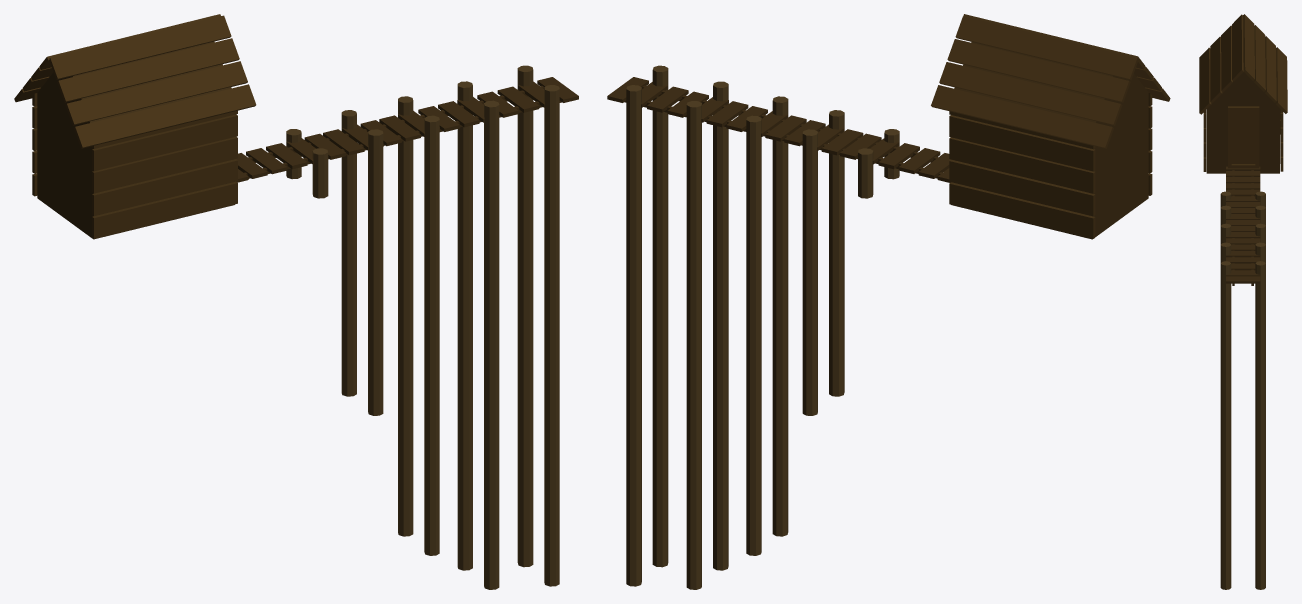
Rendered from lpCabin.gltf.
3 renders of one model, left to right at view 1: azimuth 30°, elevation 25°; view 2: azimuth 150°, elevation 25°; view 3: azimuth 270°, elevation 25°, orthographic. The views are drawn at different scales.
Parts seen in each view (by area): view 1: logs, roof, walls, planks, base; view 2: logs, roof, walls, planks, base; view 3: logs, roof, base, planks, door, walls.
Boxes of the visible parts, x1,y1,x2,y2 form: logs: [286, 65, 559, 589]; roof: [14, 14, 256, 148]; walls: [32, 93, 237, 238]; planks: [236, 77, 578, 182]; base: [37, 41, 234, 239]; logs: [626, 65, 899, 589]; roof: [931, 14, 1170, 148]; walls: [949, 93, 1152, 238]; planks: [607, 77, 950, 182]; base: [951, 42, 1148, 239]; logs: [1220, 191, 1265, 589]; roof: [1199, 14, 1287, 114]; base: [1206, 72, 1279, 173]; planks: [1226, 166, 1260, 285]; door: [1228, 106, 1259, 168]; walls: [1203, 109, 1283, 171].
Size of the model in its own units: 4.09 by 4.79 by 0.922.
